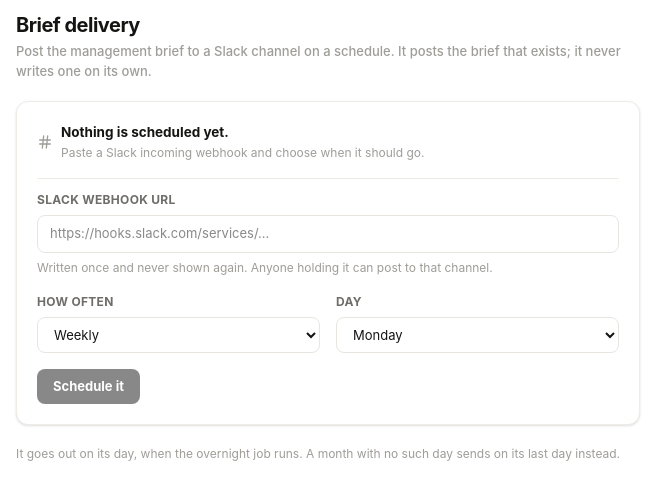
Test: BriefDeliveryPage › sets up a weekly delivery
Expected: the text "Nothing is scheduled yet." is shown, [61,124,229,140]
Type "https://hooks.slack.com/services/T/B/abcd" into the field labelled "Slack webhook URL".
click(328, 234); type("https://hooks.slack.com/services/T/B/abcd")  # box [37,215,619,253]
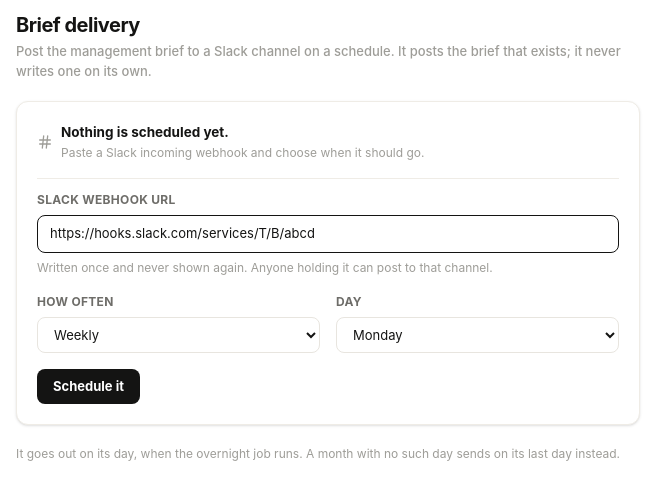
Select "Tuesday" in the dropdown labelled "Day" at (478, 335), box [336,317,619,353]
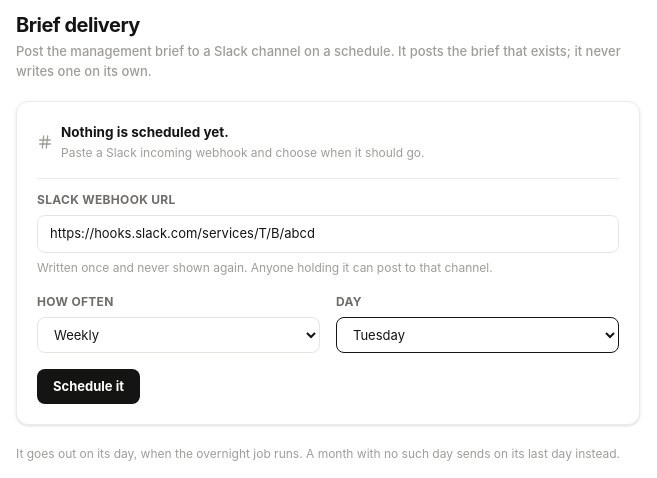
Click the button "Schedule it".
click(88, 387)  # box [37,369,140,404]
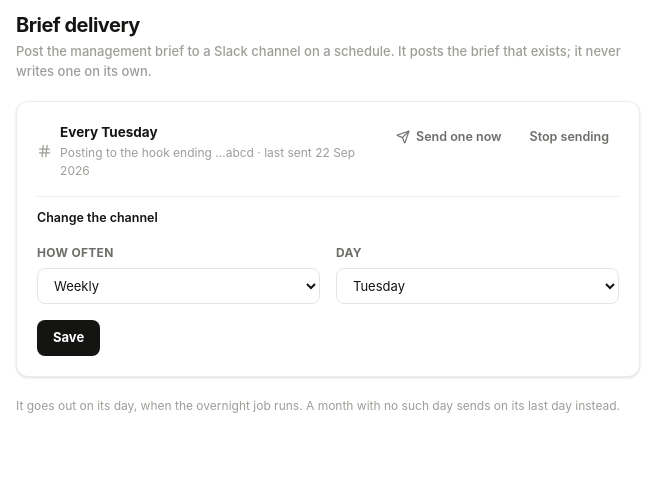
Expected: the text "Every Tuesday" is shown, [60,124,158,140]
